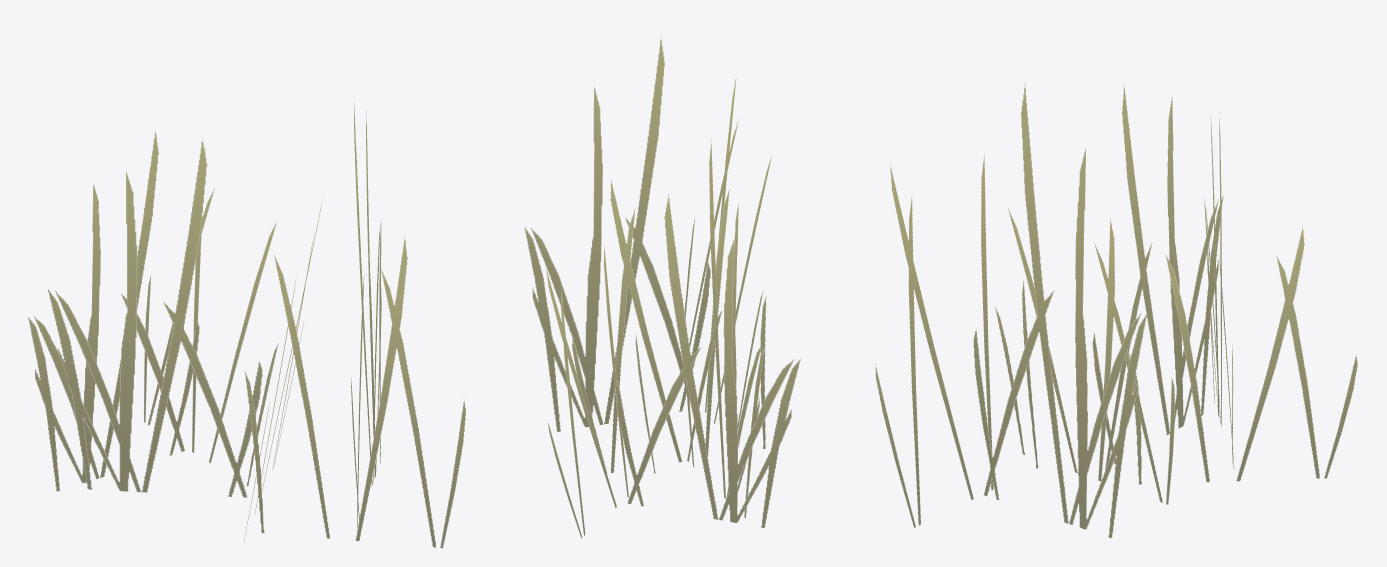
The model's file is SM_detail_grassM_D_LOD2.FBX.
3 views of the same model, side by side, from view 1: azimuth 30°, elevation 25°; view 2: azimuth 150°, elevation 25°; view 3: azimuth 270°, elevation 25° (orthographic). The views are drawn at different scales.
Parts seen in each view (by area): view 1: SM_detail_grassM_D_LOD2; view 2: SM_detail_grassM_D_LOD2; view 3: SM_detail_grassM_D_LOD2.
Boxes of the visible parts, x1=… form: SM_detail_grassM_D_LOD2: x1=28, y1=102, x2=465, y2=548; SM_detail_grassM_D_LOD2: x1=524, y1=35, x2=800, y2=538; SM_detail_grassM_D_LOD2: x1=875, y1=82, x2=1357, y2=538.
Bounding box in the file's own units: 164 × 194 × 212.
Materials: 1 (1 with a texture image).
